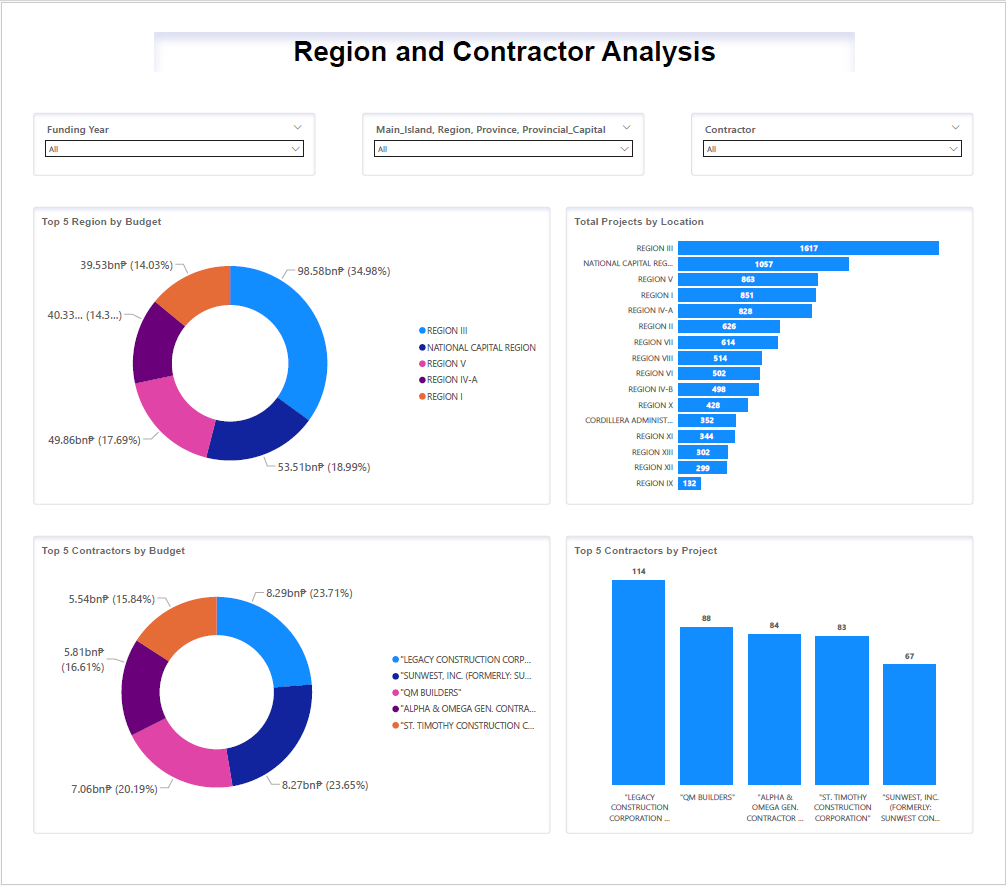

The page's visual inventory and layout, read from the dashboard file:
{"tool":"powerbi","page":{"name":"Regional, Contractor Analysis","canvas":[1490,1300],"ordinal":1},"visuals":[{"type":"textbox","box":[210,20,1072,60],"z":4000},{"type":"columnChart","title":"Top 5 Contractors by Project","fields":{"Category":["dim_contractor.Contractor"],"Y":["Calculations.Total Projects"]},"box":[840,792,624,456],"z":7000},{"type":"donutChart","title":"Top 5 Region by Budget","fields":{"Category":["dim_location.Region"],"Y":["Calculations.Total Approved Budget"]},"box":[24,288,792,456],"z":15000},{"type":"clusteredBarChart","title":"Total Projects by Location","fields":{"Category":["dim_location.Main_Island Hierarchy.Main_Island","dim_location.Main_Island Hierarchy.Region","dim_location.Main_Island Hierarchy.Province","dim_location.Main_Island Hierarchy.Provincial_Capital"],"Y":["Calculations.Total Projects"]},"box":[840,288,624,456],"z":16000},{"type":"bookmarkNavigator","box":[1200,830,238,38],"z":17000},{"type":"bookmarkNavigator","box":[1224,696,240,48],"z":18000},{"type":"donutChart","title":"Top 5 Contractors by Budget","fields":{"Category":["dim_contractor.Contractor"],"Y":["Calculations.Total Approved Budget"]},"box":[24,792,792,456],"z":18001},{"type":"slicer","fields":{"Values":["Dim_Date_Funding.Year"]},"box":[24,144,432,96],"z":18002},{"type":"slicer","fields":{"Values":["dim_location.Main_Island Hierarchy.Main_Island","dim_location.Main_Island Hierarchy.Region","dim_location.Main_Island Hierarchy.Province","dim_location.Main_Island Hierarchy.Provincial_Capital"]},"box":[528,144,432,96],"z":18003},{"type":"slicer","fields":{"Values":["dim_contractor.Contractor"]},"box":[1032,144,432,96],"z":18004}]}

Visuals, with their boxes in screenshot pixels (x1, y1, x2, y2), scaled from the page's 1490x1300 canvas onto the 1006x886 screenshot:
textbox: region(142, 14, 866, 55)
"Top 5 Contractors by Project" columnChart: region(567, 540, 988, 851)
"Top 5 Region by Budget" donutChart: region(16, 196, 551, 507)
"Total Projects by Location" clusteredBarChart: region(567, 196, 988, 507)
bookmarkNavigator: region(810, 566, 971, 592)
bookmarkNavigator: region(826, 474, 988, 507)
"Top 5 Contractors by Budget" donutChart: region(16, 540, 551, 851)
slicer - Dim_Date_Funding.Year: region(16, 98, 308, 164)
slicer - dim_location.Main_Island Hierarchy.Main_Island x dim_location.Main_Island Hierarchy.Region: region(356, 98, 648, 164)
slicer - dim_contractor.Contractor: region(697, 98, 988, 164)
